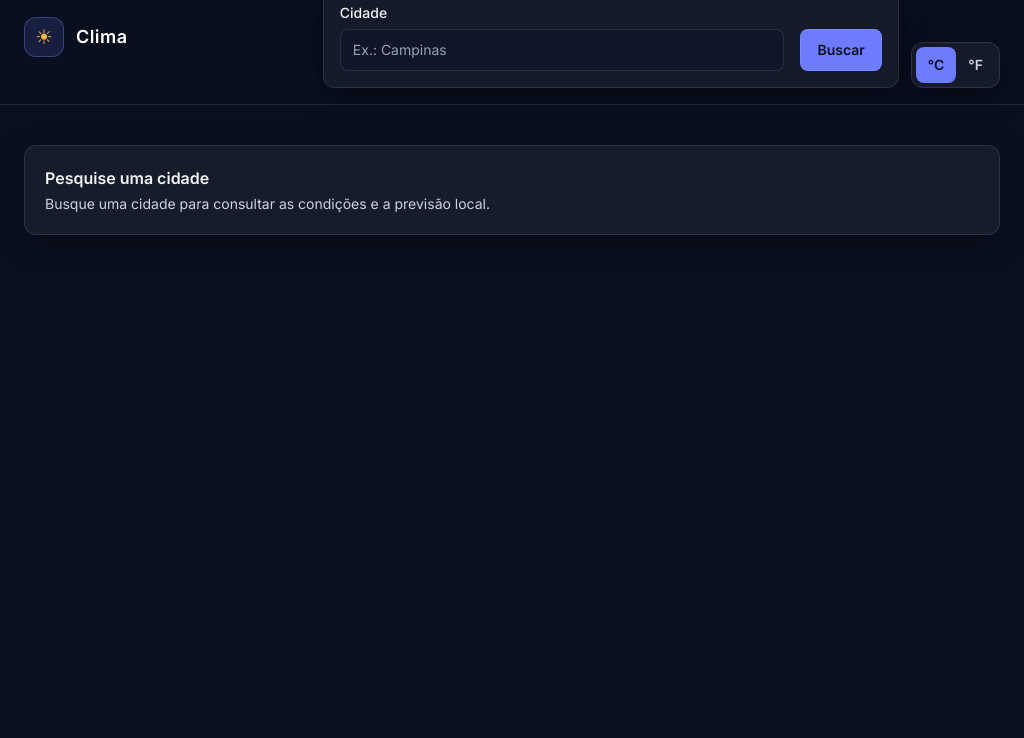
Test: App › searches through the weather service and renders the result
The width and height of the screenshot is (1024, 738).
Expected: the heading "Clima" is shown, [76,23,128,51]
Expected: the message shows "Pesquise uma cidade", [45,168,209,188]
Type "Campinas" into the search field labelled "Cidade" at (562, 50), box [340,29,784,71]
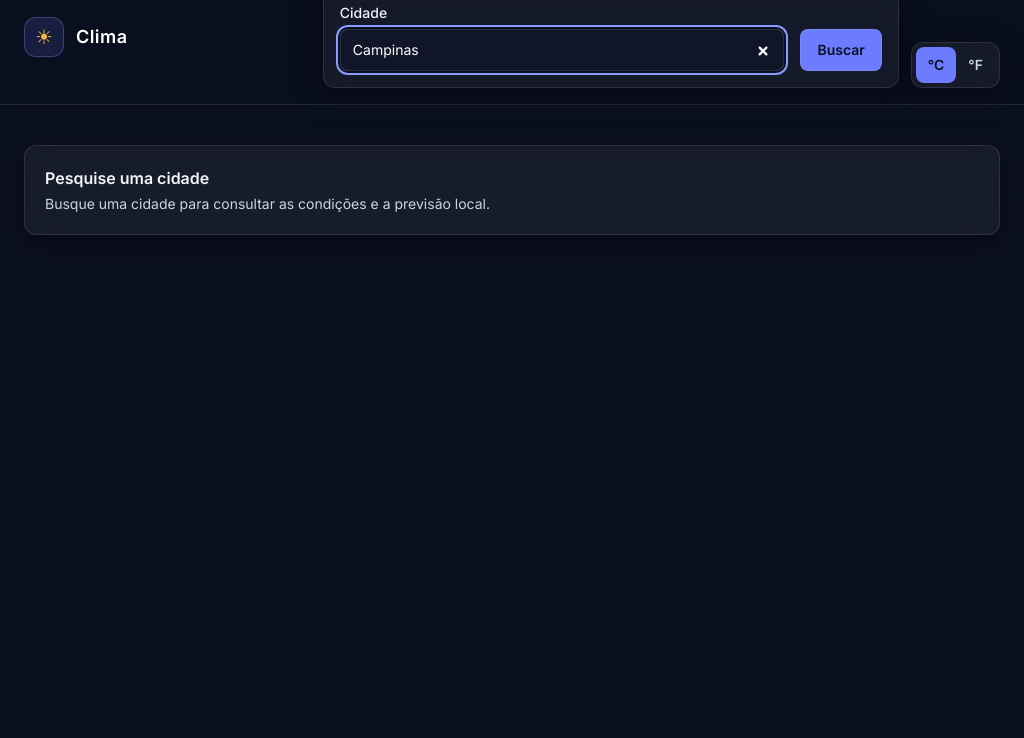
Click the button "Buscar" at (841, 50), box [800,29,882,71]
(page scrolled)
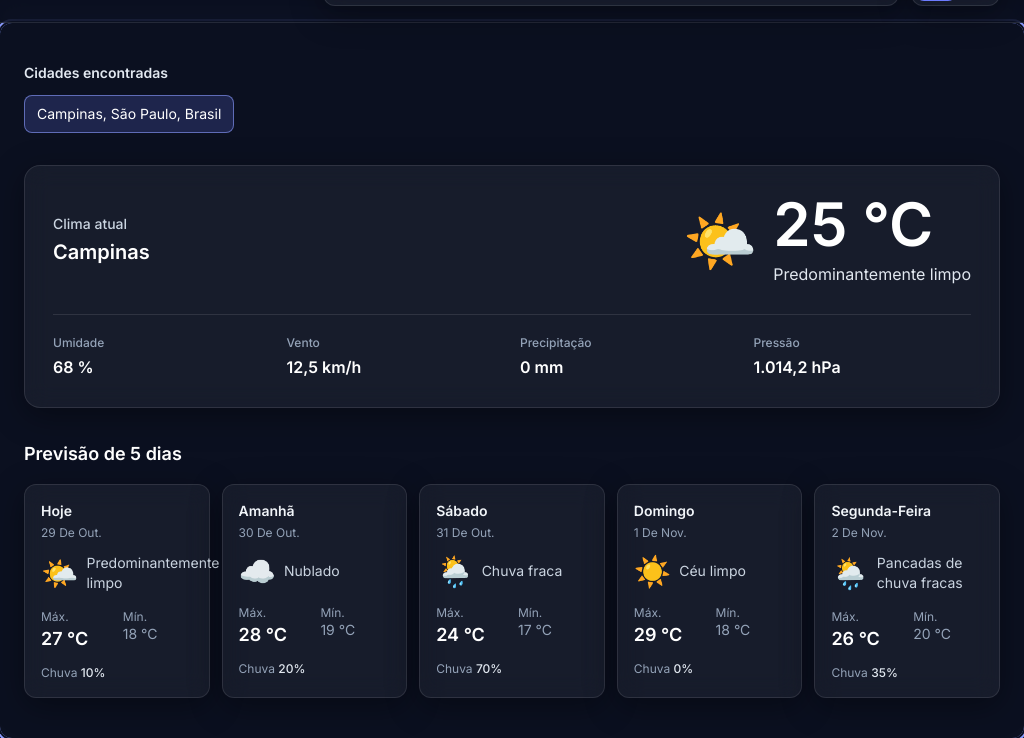
Expected: the text "25 °C" is shown, [773,188,933,260]
